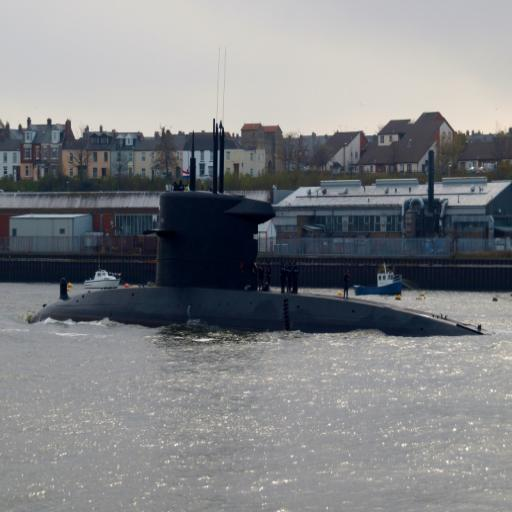submarine: (29, 193, 489, 334)
